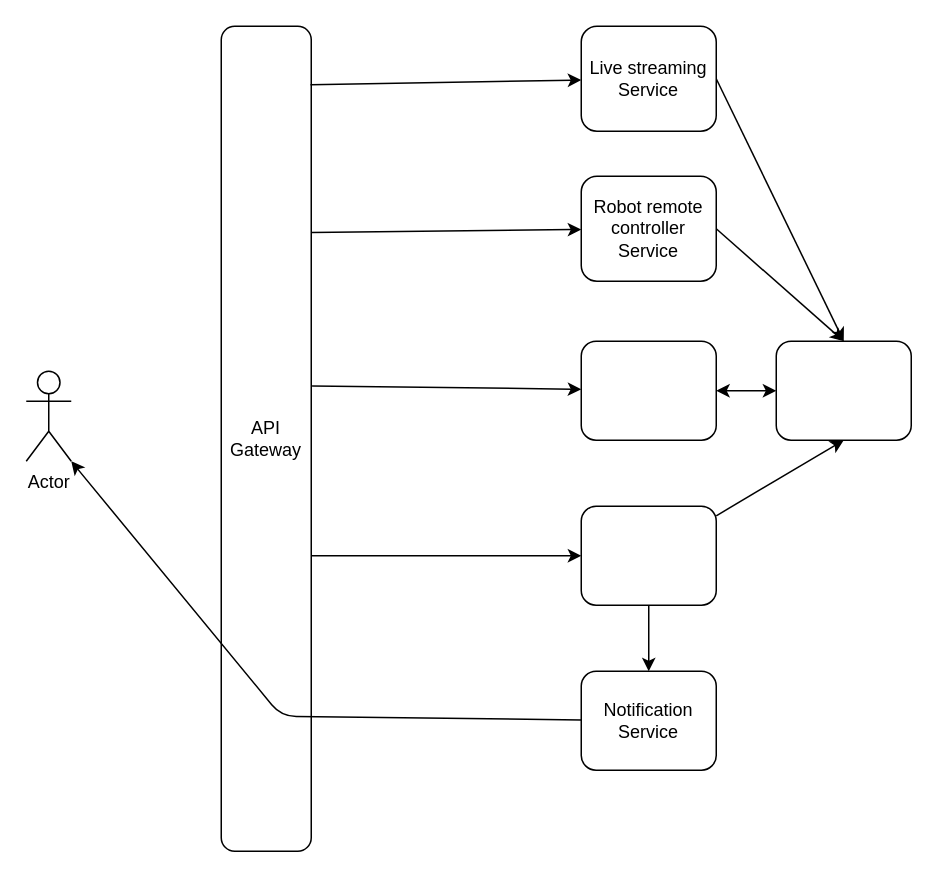
The diagram is 938 pixels wide and 878 high, and some of its shapes have lost their labels. Here are the shapes that lost their labels. From the top down, the centre of each, then its label:
At [648,390]: "Subscriber Service".
At [843,390]: "Subscription Service".
At [648,555]: "Customer support Service".
